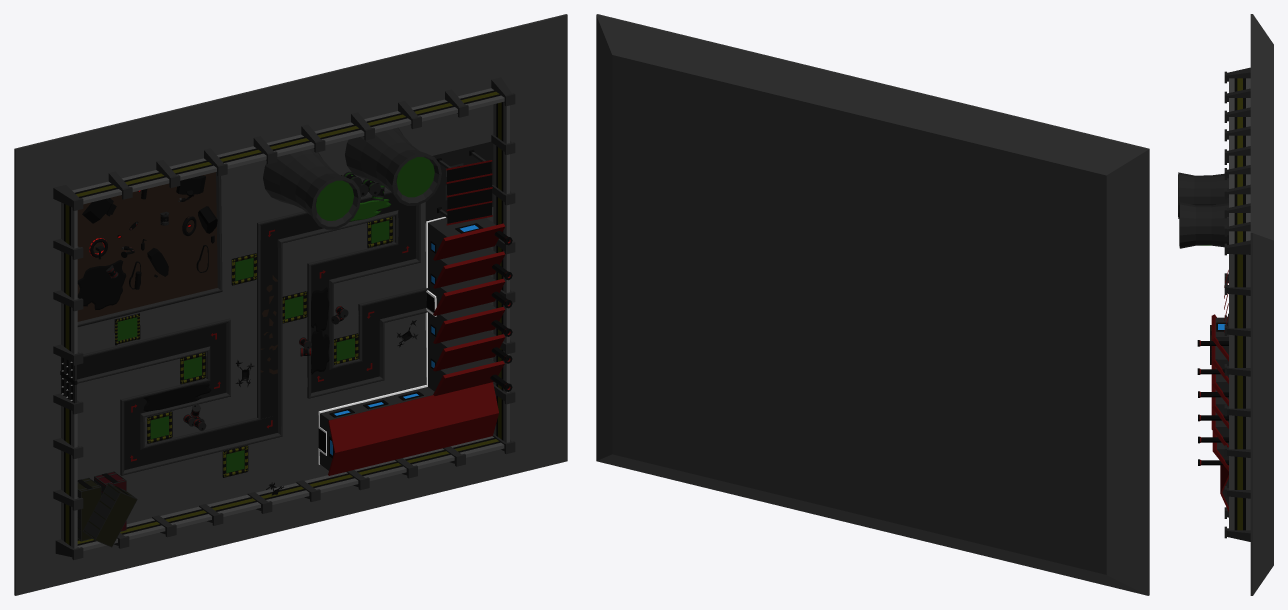
The model's file is MAPA.obj.
3 views of the same model, side by side, from view 1: azimuth 30°, elevation 25°; view 2: azimuth 150°, elevation 25°; view 3: azimuth 270°, elevation 25° (orthographic). The views are drawn at different scales.
Parts seen in each view (by area): view 1: Plane.196, Plane.198, Plane.002, Plane.114, Plane.007, Cube.219, Cube.374, Circle.135, Circle.004, Cube.255, Plane.099, Cube.252 (+12 smaller); view 2: Plane.196; view 3: Plane.196, Cube.255, Plane.198, Cube.219, Circle.004, Circle.135, Cube.233, Cube.240, Cube.223, Cube.236, Cube.229, Cube.237 (+11 smaller).
Part boxes in pixels (box(x1,y1,x2,y2)): Plane.196: box(14, 14, 567, 595); Plane.198: box(318, 217, 512, 475); Plane.002: box(77, 193, 426, 470); Plane.114: box(77, 172, 217, 321); Plane.007: box(77, 190, 428, 475); Cube.219: box(72, 88, 504, 204); Cube.374: box(77, 436, 504, 550); Circle.135: box(263, 148, 360, 229); Circle.004: box(345, 127, 441, 205); Cube.255: box(493, 102, 509, 442); Plane.099: box(447, 162, 491, 223); Cube.252: box(61, 202, 77, 354); Plane.196: box(596, 14, 1149, 595); Plane.196: box(1250, 14, 1273, 595); Cube.255: box(1229, 254, 1250, 530); Plane.198: box(1197, 314, 1228, 511); Cube.219: box(1229, 78, 1250, 244); Circle.004: box(1179, 202, 1228, 248); Circle.135: box(1178, 172, 1228, 218); Cube.233: box(1224, 240, 1250, 255); Cube.240: box(1224, 526, 1250, 541); Cube.223: box(1224, 67, 1250, 83); Cube.236: box(1224, 404, 1250, 417); Cube.229: box(1224, 184, 1250, 199); Cube.237: box(1224, 445, 1250, 457).
Bounding box in the file's own units: 47.3 × 36.52 × 8.75.
